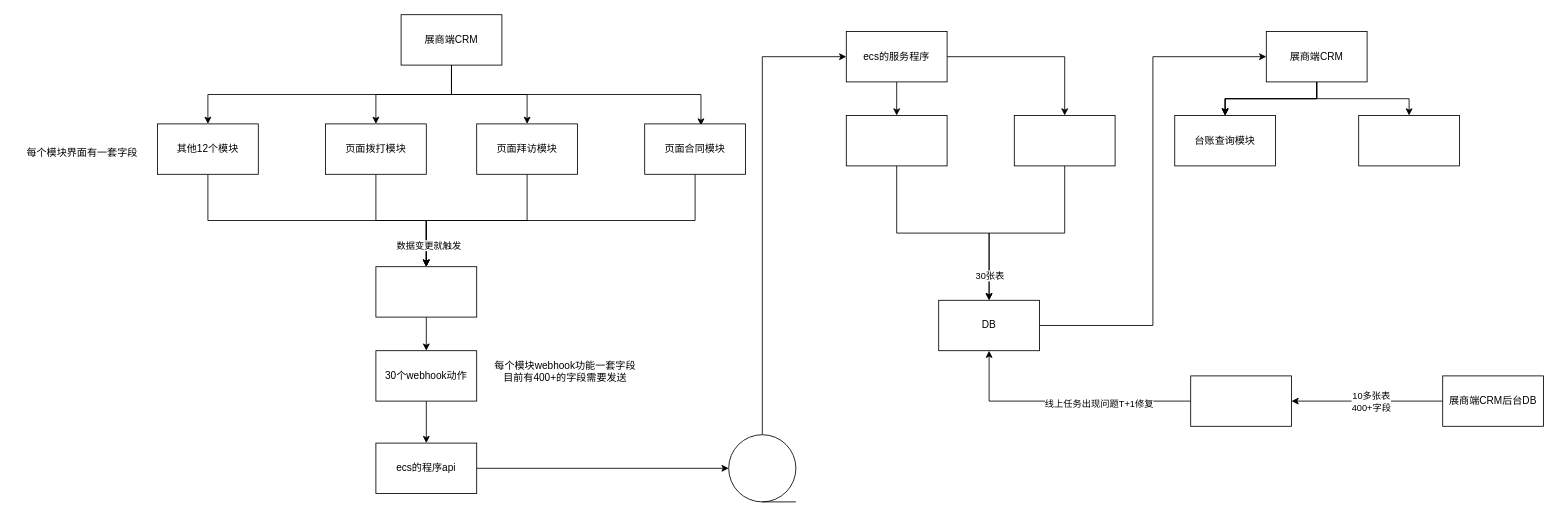
The diagram is 1558 pixels wide and 517 high, and some of its shapes have lost their labels. The centre of each missing label's shape, as x and y in pixels:
30个工作流: point (426, 291)
kafka: point (762, 468)
odps逻辑加工成表: point (1241, 400)
明细数据: point (896, 140)
明细管理模块: point (1409, 140)
需要二次处理，落地到DB前需要主键唯一的逻辑处理: point (1064, 140)
